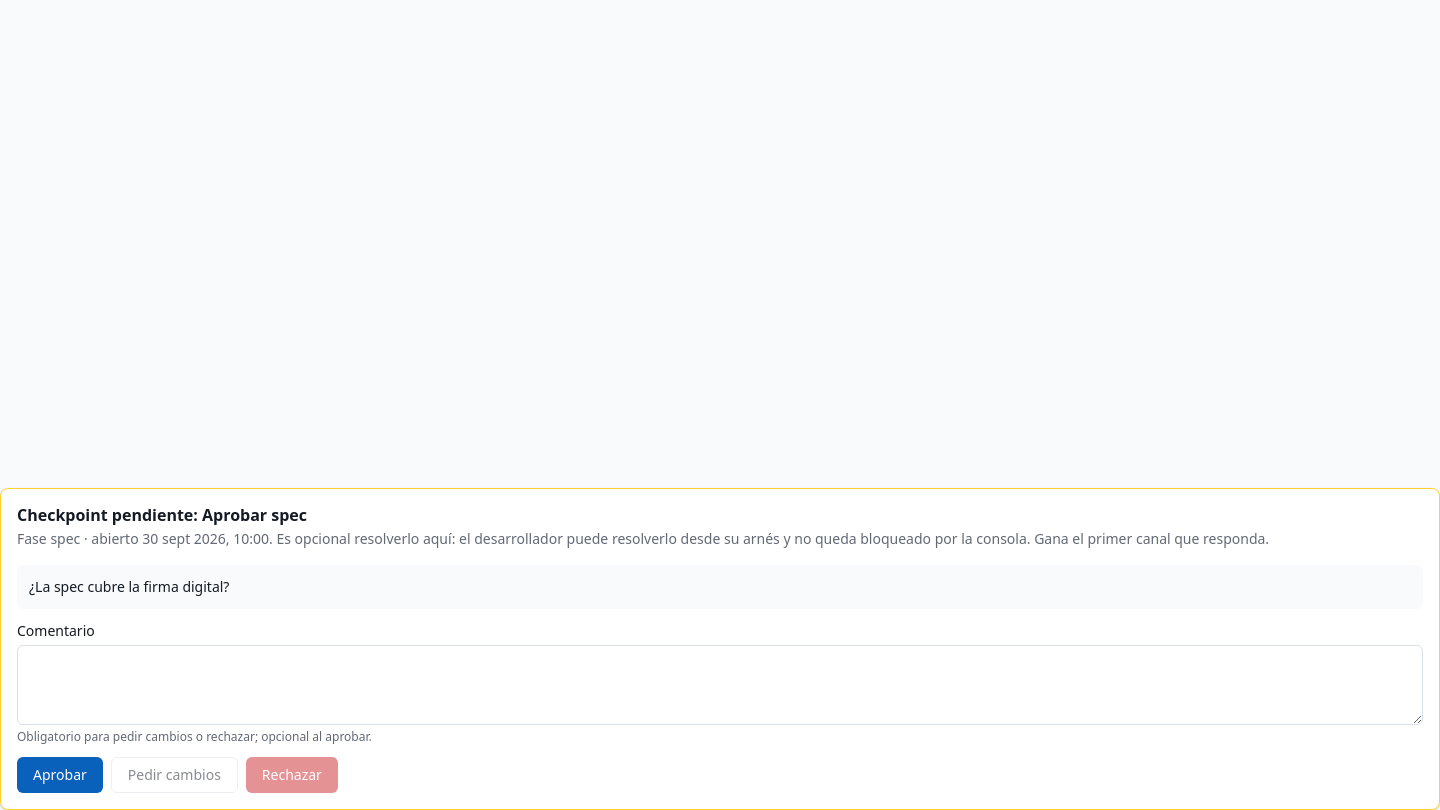
Test case: panel de checkpoint › «checkpoint-ya-resuelto» avisa que ganó otro canal y no lo muestra como error
(page scrolled)
What coordinates should you click on to do the following:
click the button "Aprobar"
I would click on:
 (60, 775)
Its box is 17,757 -> 103,793.
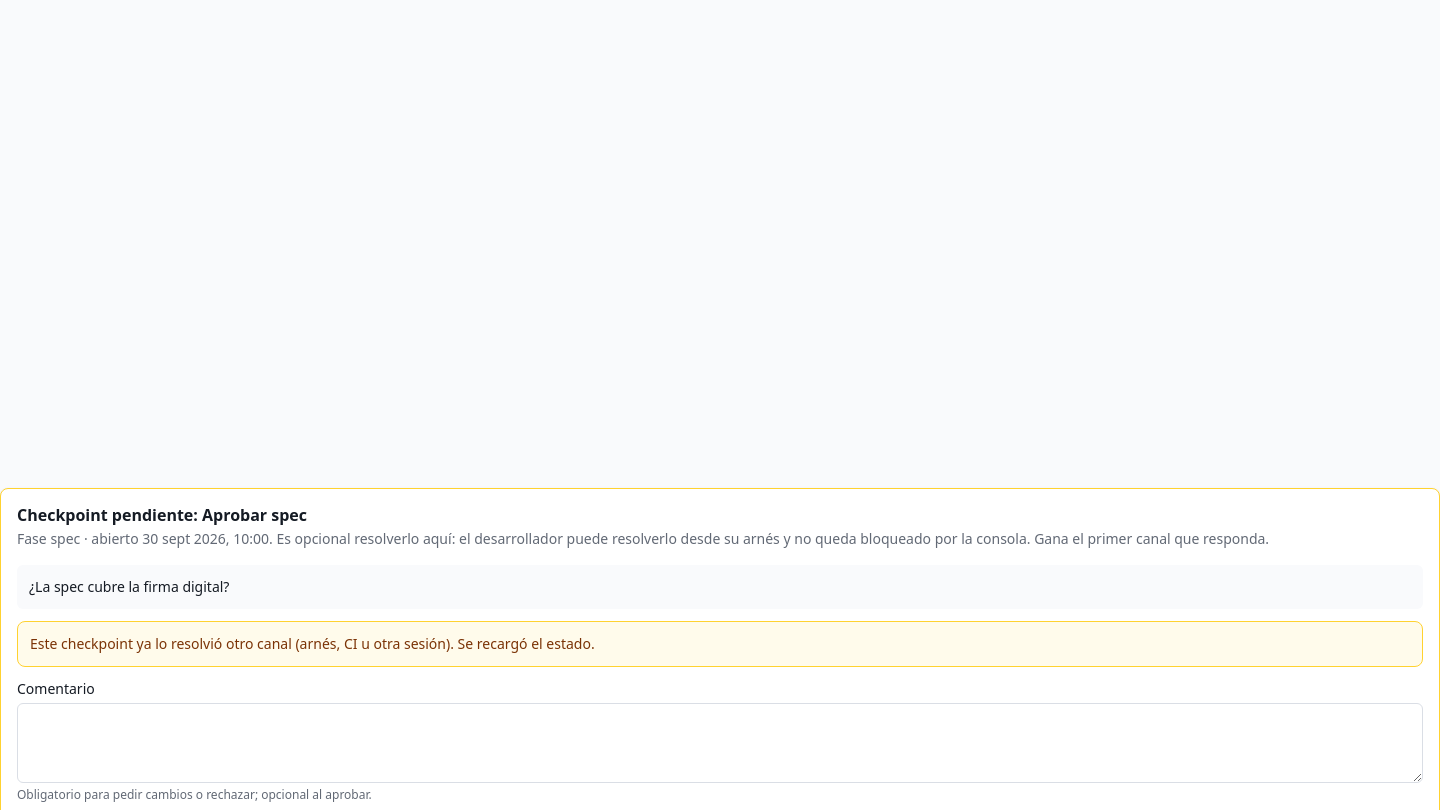
Expected: the text "ya lo resolvió otro canal" is shown, 30,634 -> 595,653
